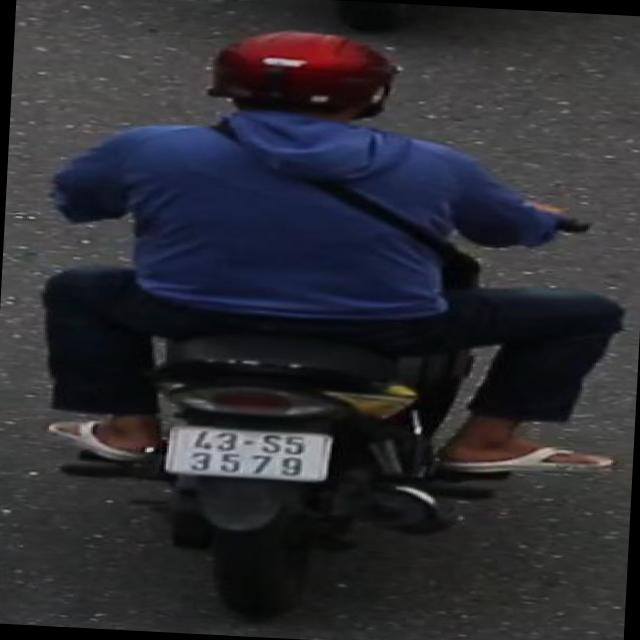LP: (156, 422, 340, 491)
helmet: (187, 22, 408, 140)
